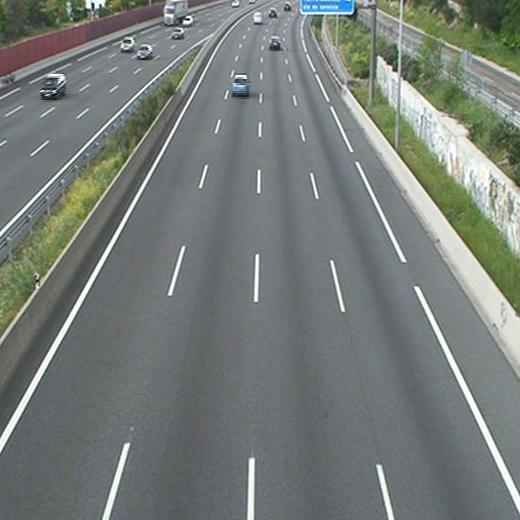car: (232, 74, 250, 94), (269, 35, 281, 46), (268, 9, 277, 18)
van: (253, 11, 262, 25)
